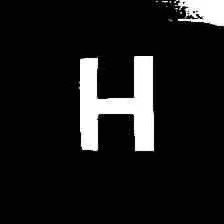LTR_H: (65, 47, 162, 160)
